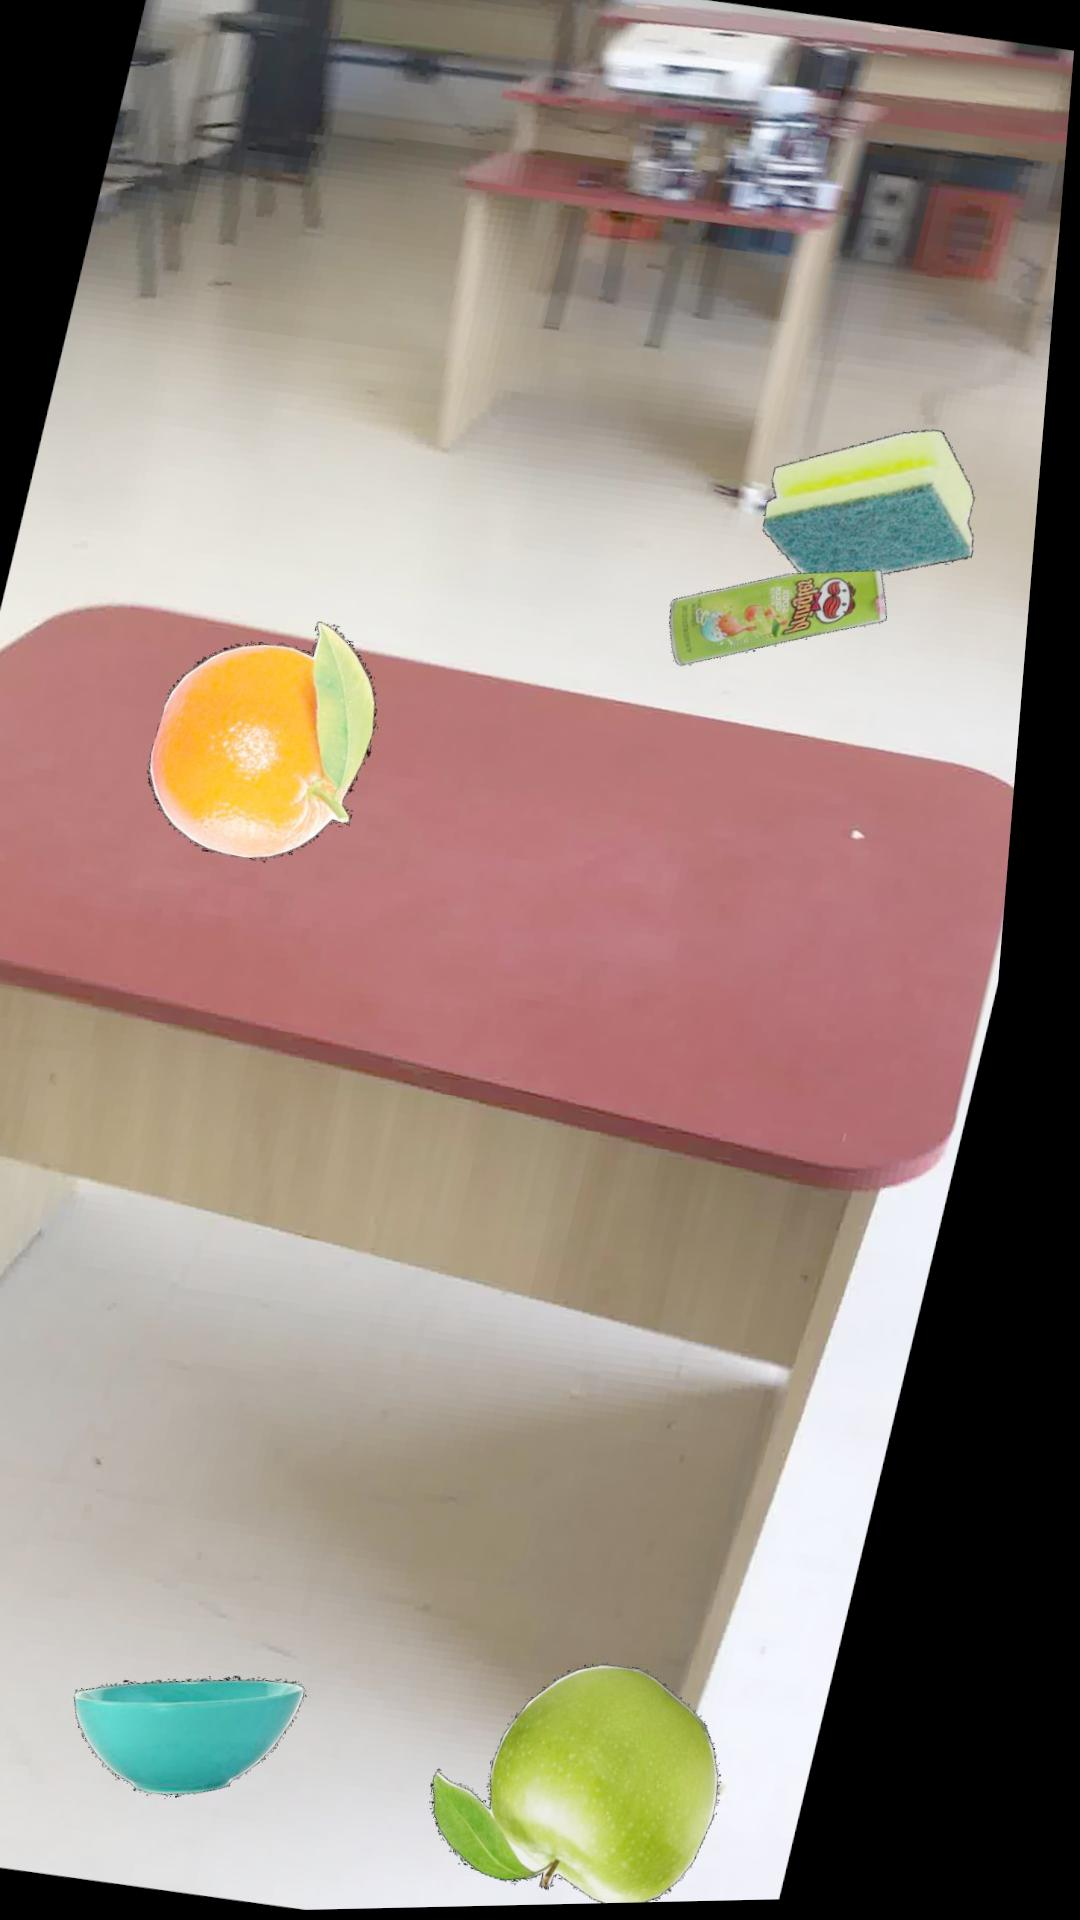bowl: (104, 1675, 335, 1796)
green apple: (462, 1664, 752, 1907)
orange: (161, 620, 390, 858)
pringles: (680, 571, 899, 667)
sponge: (773, 431, 985, 576)
